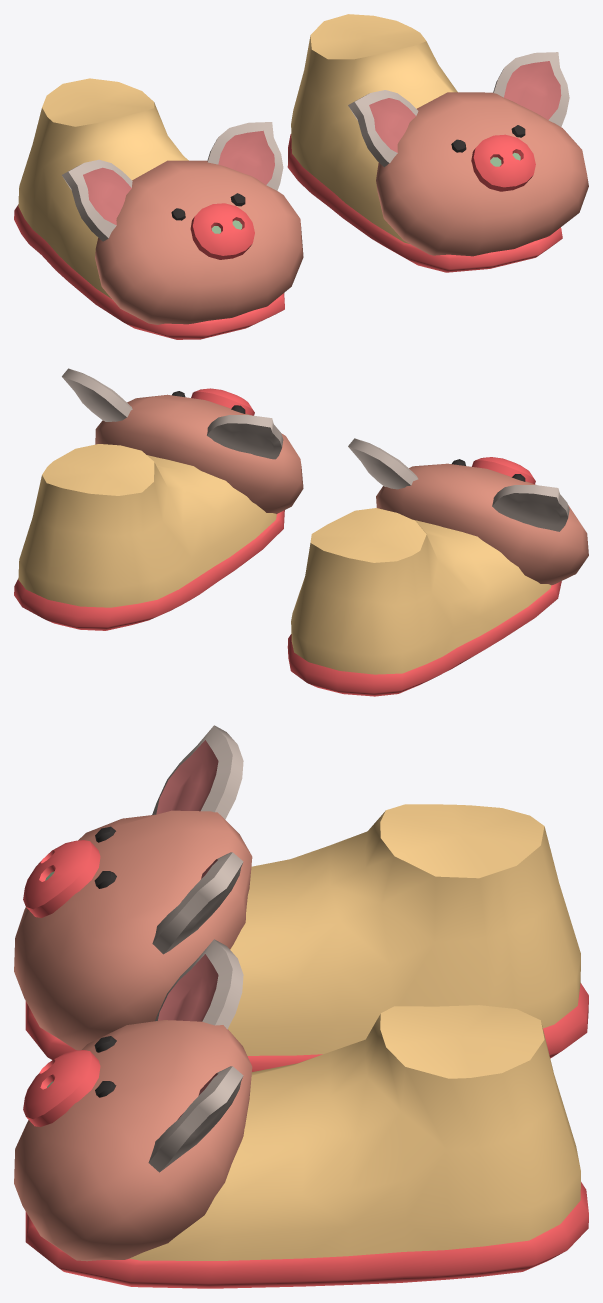
The model's file is Shoes_04_01.fbx.
3 renders of one model, top to bottom at view 1: azimuth 30°, elevation 25°; view 2: azimuth 150°, elevation 25°; view 3: azimuth 270°, elevation 25°, orthographic. The views are drawn at different scales.
Parts seen in each view (by area): view 1: Shoes_04_01; view 2: Shoes_04_01; view 3: Shoes_04_01.
Part boxes in pixels (<box>): Shoes_04_01: <box>14,14,588,339</box>; Shoes_04_01: <box>14,368,588,696</box>; Shoes_04_01: <box>14,725,588,1288</box>.
Bounding box in the file's own units: 31.98 × 9.13 × 20.99.
